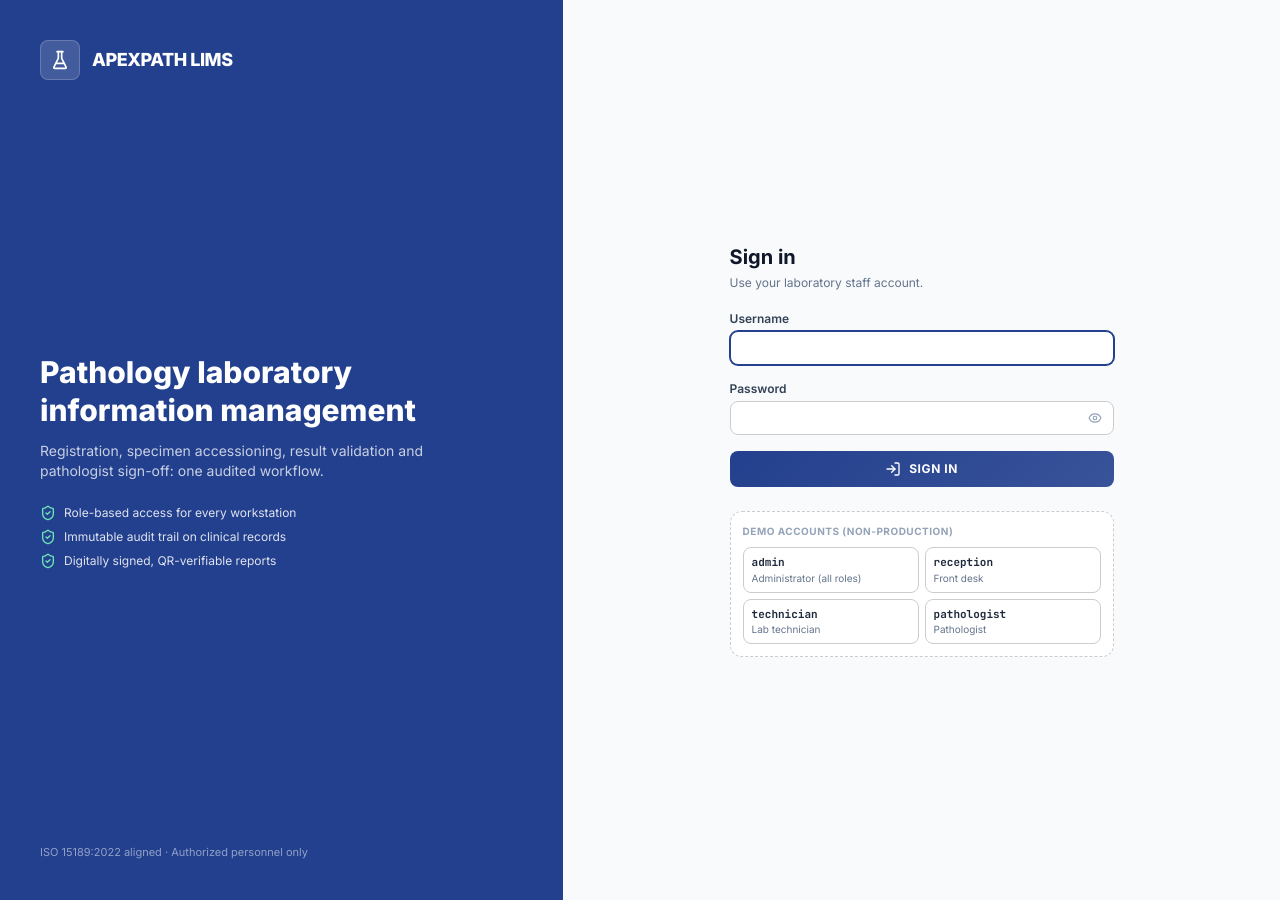
Test: LoginPage › shows a generic message on bad credentials and clears the password
Type "reception" into the field labelled "Username". click: (922, 348)
box: [730,331,1114,365]
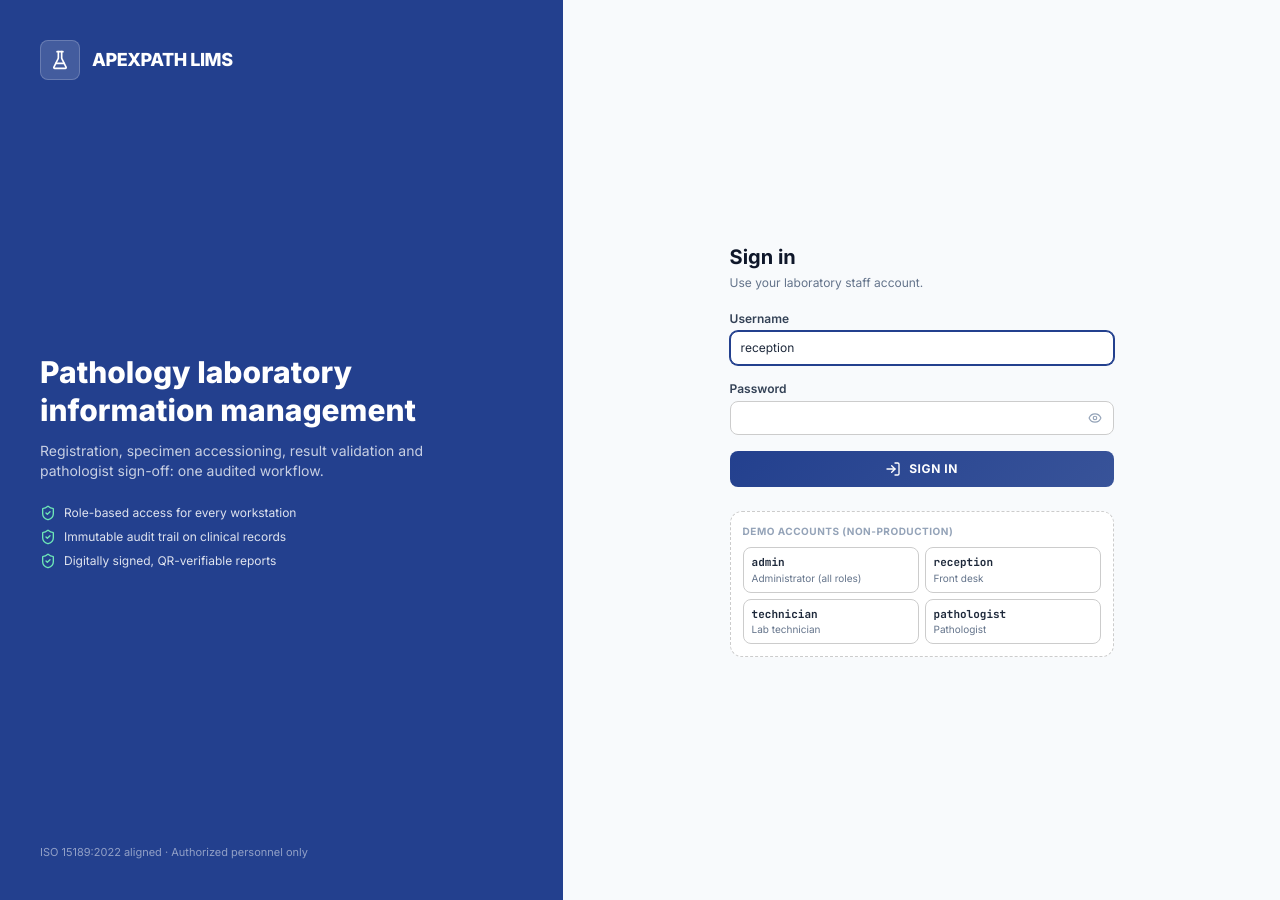
Type "wrong-pass" into the password field labelled "Password". click: (922, 418)
box: [730,401,1114,435]
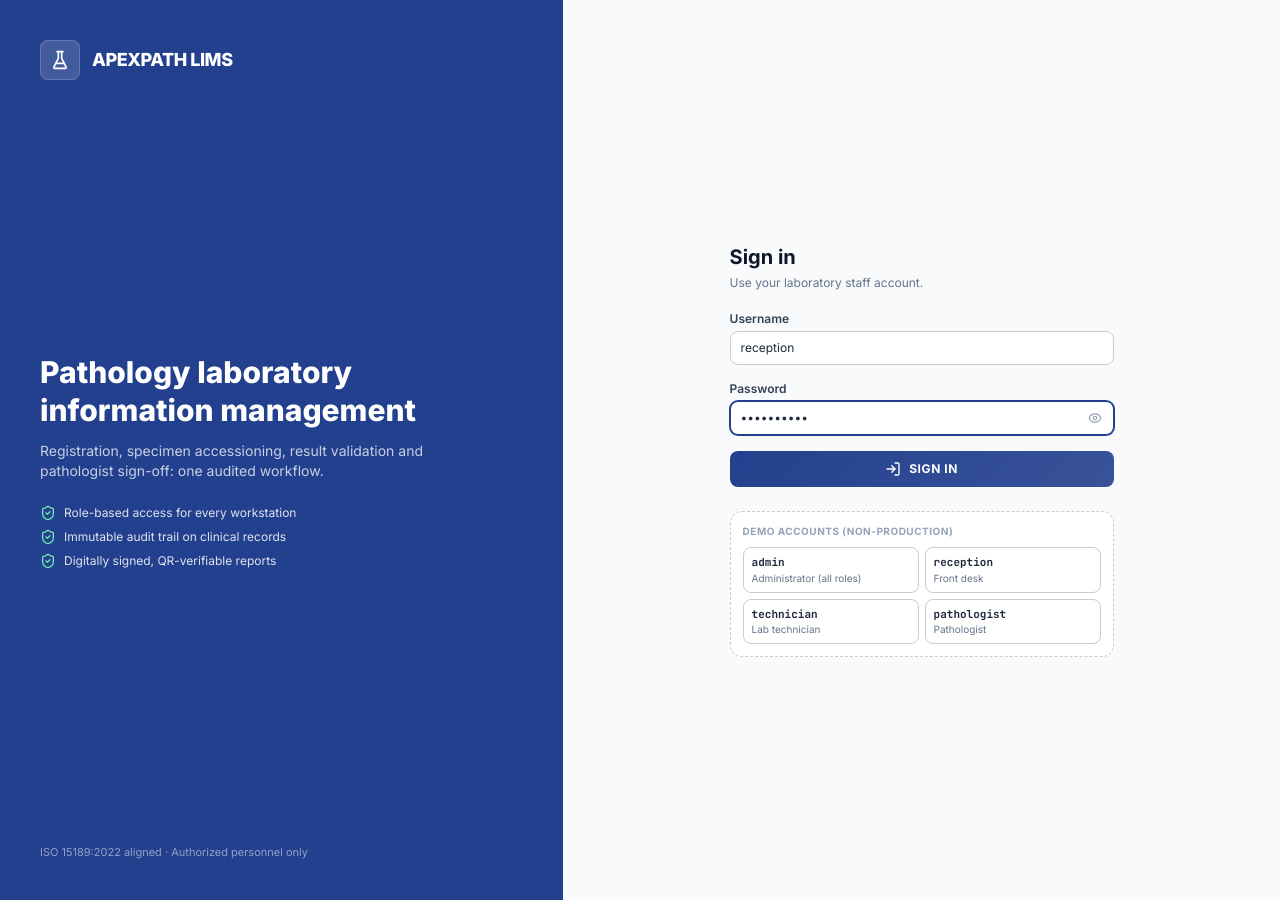
Click the button "Sign in". click: (922, 469)
box: [730,451,1114,487]
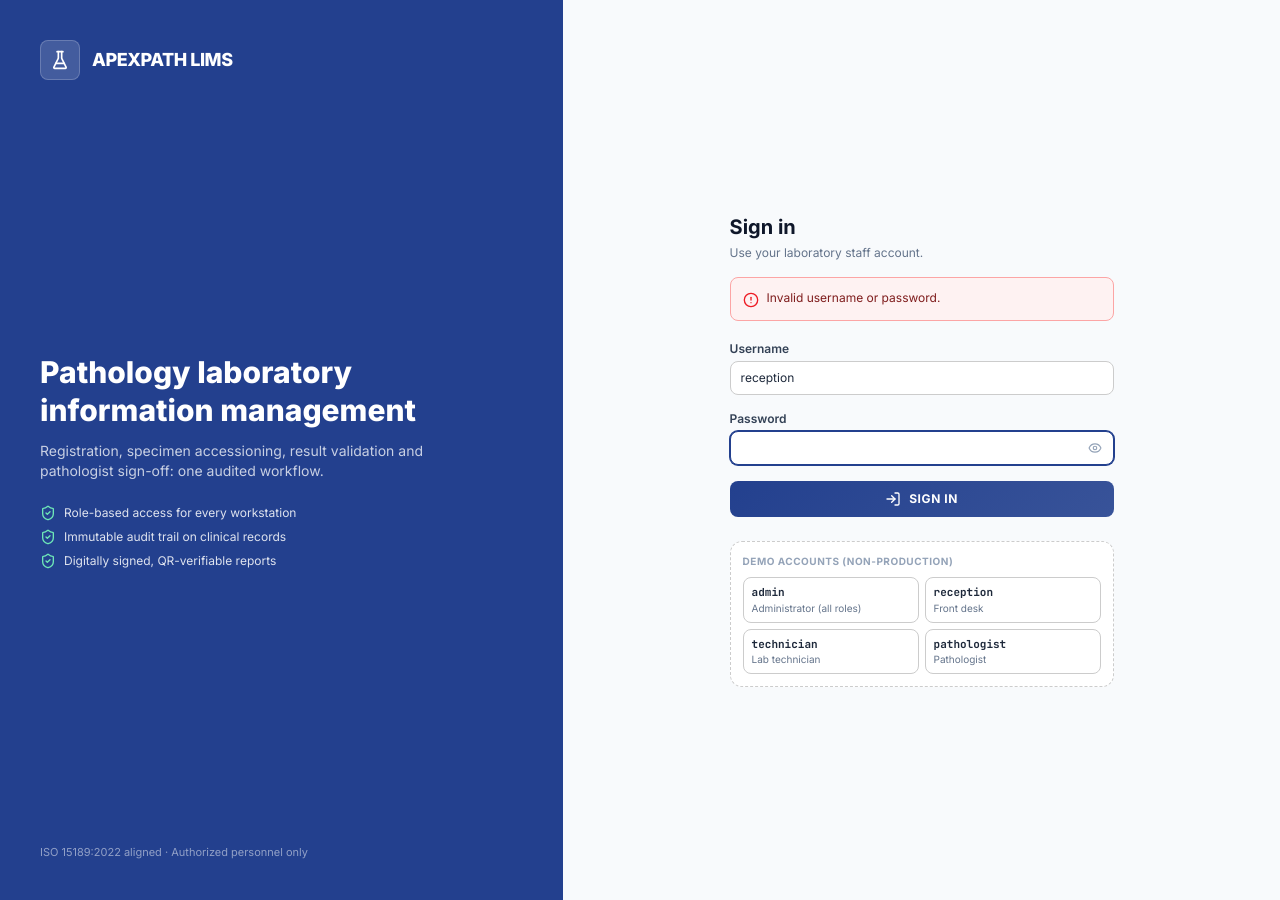
Expected: the text "Invalid username or password." is shown, [730,277,1114,321]
Expected: the password field labelled "Password" is empty, [730,431,1114,465]
